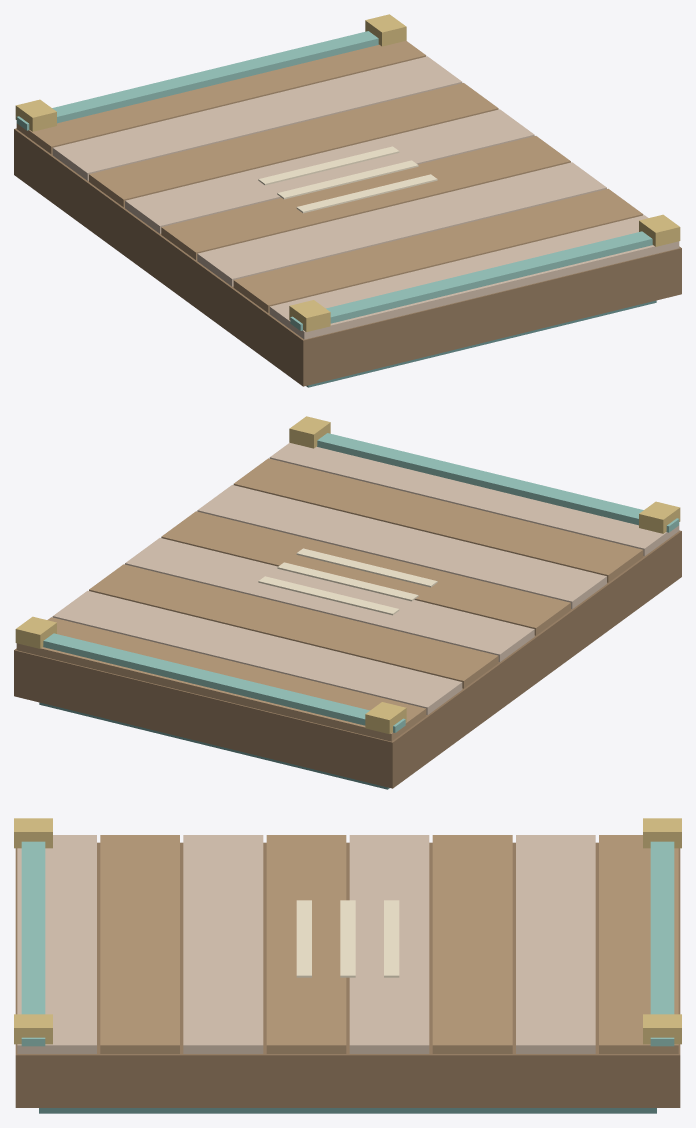
File: DeliveryBarge01.glb
3 renders of one model, top to bottom at view 1: azimuth 30°, elevation 25°; view 2: azimuth 150°, elevation 25°; view 3: azimuth 270°, elevation 25°, orthographic. The views are drawn at different scales.
Visible parts, largest first — view 1: DeliveryBarge01; view 2: DeliveryBarge01; view 3: DeliveryBarge01.
Part boxes in pixels (x1,y1,x2,y2): DeliveryBarge01: [14, 14, 681, 387]; DeliveryBarge01: [14, 416, 681, 789]; DeliveryBarge01: [14, 818, 681, 1113].
Bounding box in the file's own units: 3.1 × 0.63 × 4.12.
